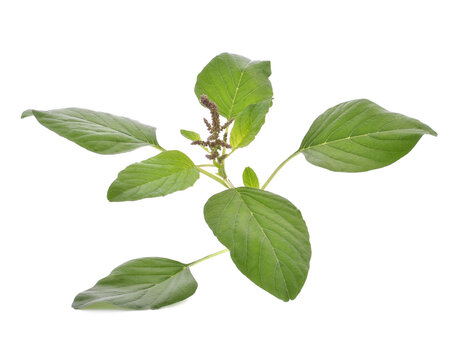Bayam: (22, 36, 439, 358)
